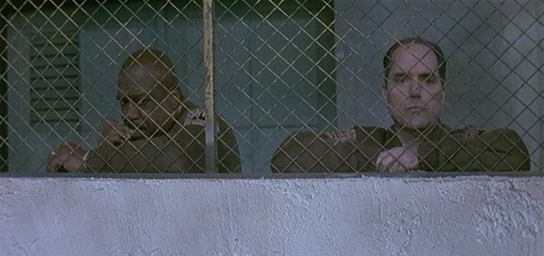face: (388, 63, 441, 130), (116, 74, 164, 142)
ms: (1, 1, 544, 256)
person: (271, 38, 532, 174), (45, 46, 241, 174)
